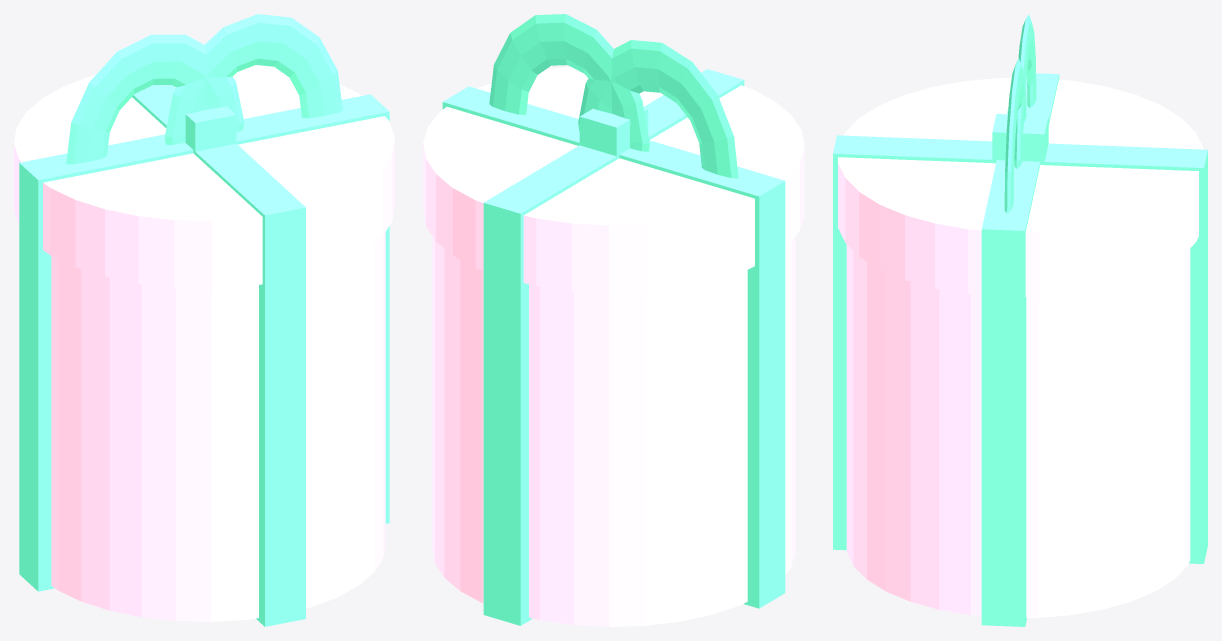
Rendered from Tmpl_Round_Root_190.glb.
The picture shows the model from 3 angles, left to right: view 1: azimuth 30°, elevation 25°; view 2: azimuth 150°, elevation 25°; view 3: azimuth 270°, elevation 25°; orthographic projection. The views are drawn at different scales.
Parts seen in each view (by area): view 1: Tmpl_Round_Base.188, Tmpl_Round_Lid.188, Tmpl_Round_Ribbon_Y.188, Tmpl_Round_Ribbon_X.188, Tmpl_Round_BowL.188, Tmpl_Round_BowR.188, Tmpl_Round_BowKnot.188; view 2: Tmpl_Round_Base.188, Tmpl_Round_Lid.188, Tmpl_Round_Ribbon_Y.188, Tmpl_Round_Ribbon_X.188, Tmpl_Round_BowL.188, Tmpl_Round_BowR.188, Tmpl_Round_BowKnot.188; view 3: Tmpl_Round_Base.188, Tmpl_Round_Lid.188, Tmpl_Round_Ribbon_X.188, Tmpl_Round_Ribbon_Y.188, Tmpl_Round_BowKnot.188, Tmpl_Round_BowL.188, Tmpl_Round_BowR.188.
Boxes of the visible parts, bbox=[...] form: Tmpl_Round_Base.188: bbox=[51, 232, 385, 621]; Tmpl_Round_Lid.188: bbox=[14, 65, 394, 288]; Tmpl_Round_Ribbon_Y.188: bbox=[132, 85, 305, 626]; Tmpl_Round_Ribbon_X.188: bbox=[19, 94, 389, 591]; Tmpl_Round_BowL.188: bbox=[165, 14, 342, 144]; Tmpl_Round_BowR.188: bbox=[66, 34, 244, 164]; Tmpl_Round_BowKnot.188: bbox=[185, 106, 236, 154]; Tmpl_Round_Base.188: bbox=[432, 236, 795, 626]; Tmpl_Round_Lid.188: bbox=[423, 66, 804, 292]; Tmpl_Round_Ribbon_Y.188: bbox=[483, 69, 744, 625]; Tmpl_Round_Ribbon_X.188: bbox=[442, 86, 785, 608]; Tmpl_Round_BowL.188: bbox=[489, 14, 649, 151]; Tmpl_Round_BowR.188: bbox=[578, 40, 738, 178]; Tmpl_Round_BowKnot.188: bbox=[579, 107, 648, 159]; Tmpl_Round_Base.188: bbox=[846, 244, 1190, 617]; Tmpl_Round_Lid.188: bbox=[838, 78, 1202, 296]; Tmpl_Round_Ribbon_X.188: bbox=[981, 73, 1059, 626]; Tmpl_Round_Ribbon_Y.188: bbox=[833, 135, 1207, 563]; Tmpl_Round_BowKnot.188: bbox=[992, 114, 1048, 164]; Tmpl_Round_BowL.188: bbox=[1004, 58, 1026, 213]; Tmpl_Round_BowR.188: bbox=[1014, 14, 1036, 168].
Size of the model in its own units: 0.8154 by 1.21 by 0.8154.
